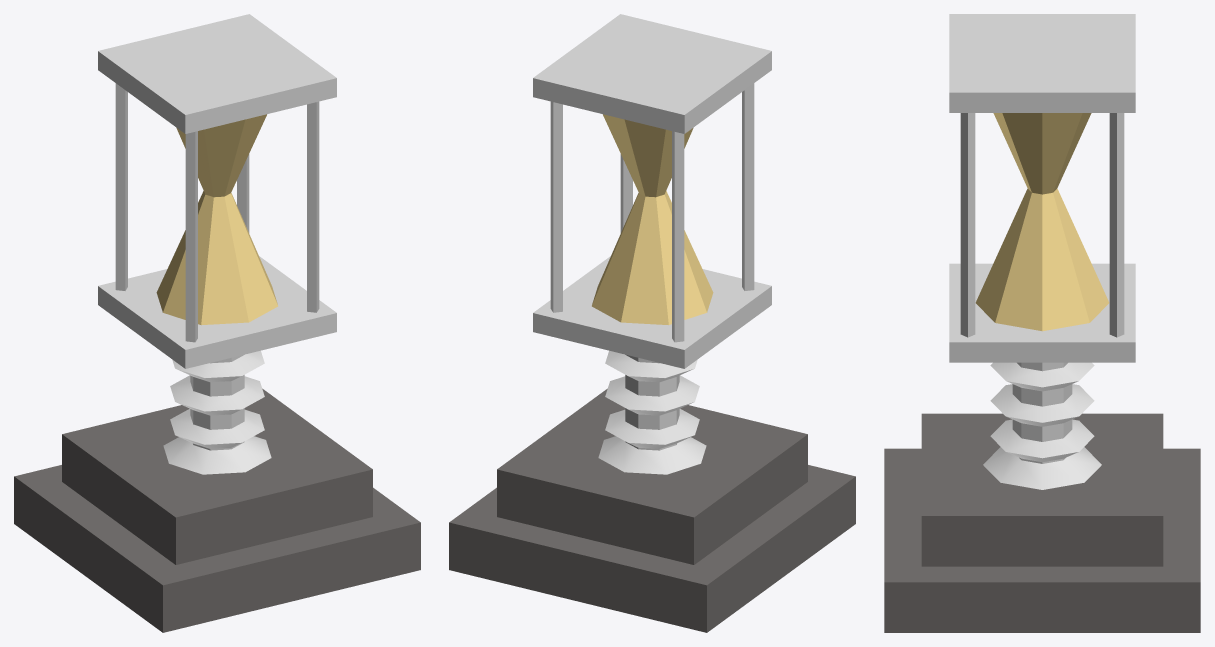
The model's file is trophy_u25.gltf.
The picture shows the model from 3 angles, left to right: view 1: azimuth 30°, elevation 25°; view 2: azimuth 150°, elevation 25°; view 3: azimuth 270°, elevation 25°; orthographic projection. The views are drawn at different scales.
Parts seen in each view (by area): view 1: Body; view 2: Body; view 3: Body.
Part boxes in pixels (x1=…): Body: x1=14, y1=14, x2=420, y2=632; Body: x1=449, y1=14, x2=855, y2=632; Body: x1=884, y1=14, x2=1200, y2=632.
Size of the model in its own units: 0.085 by 0.152 by 0.085.
